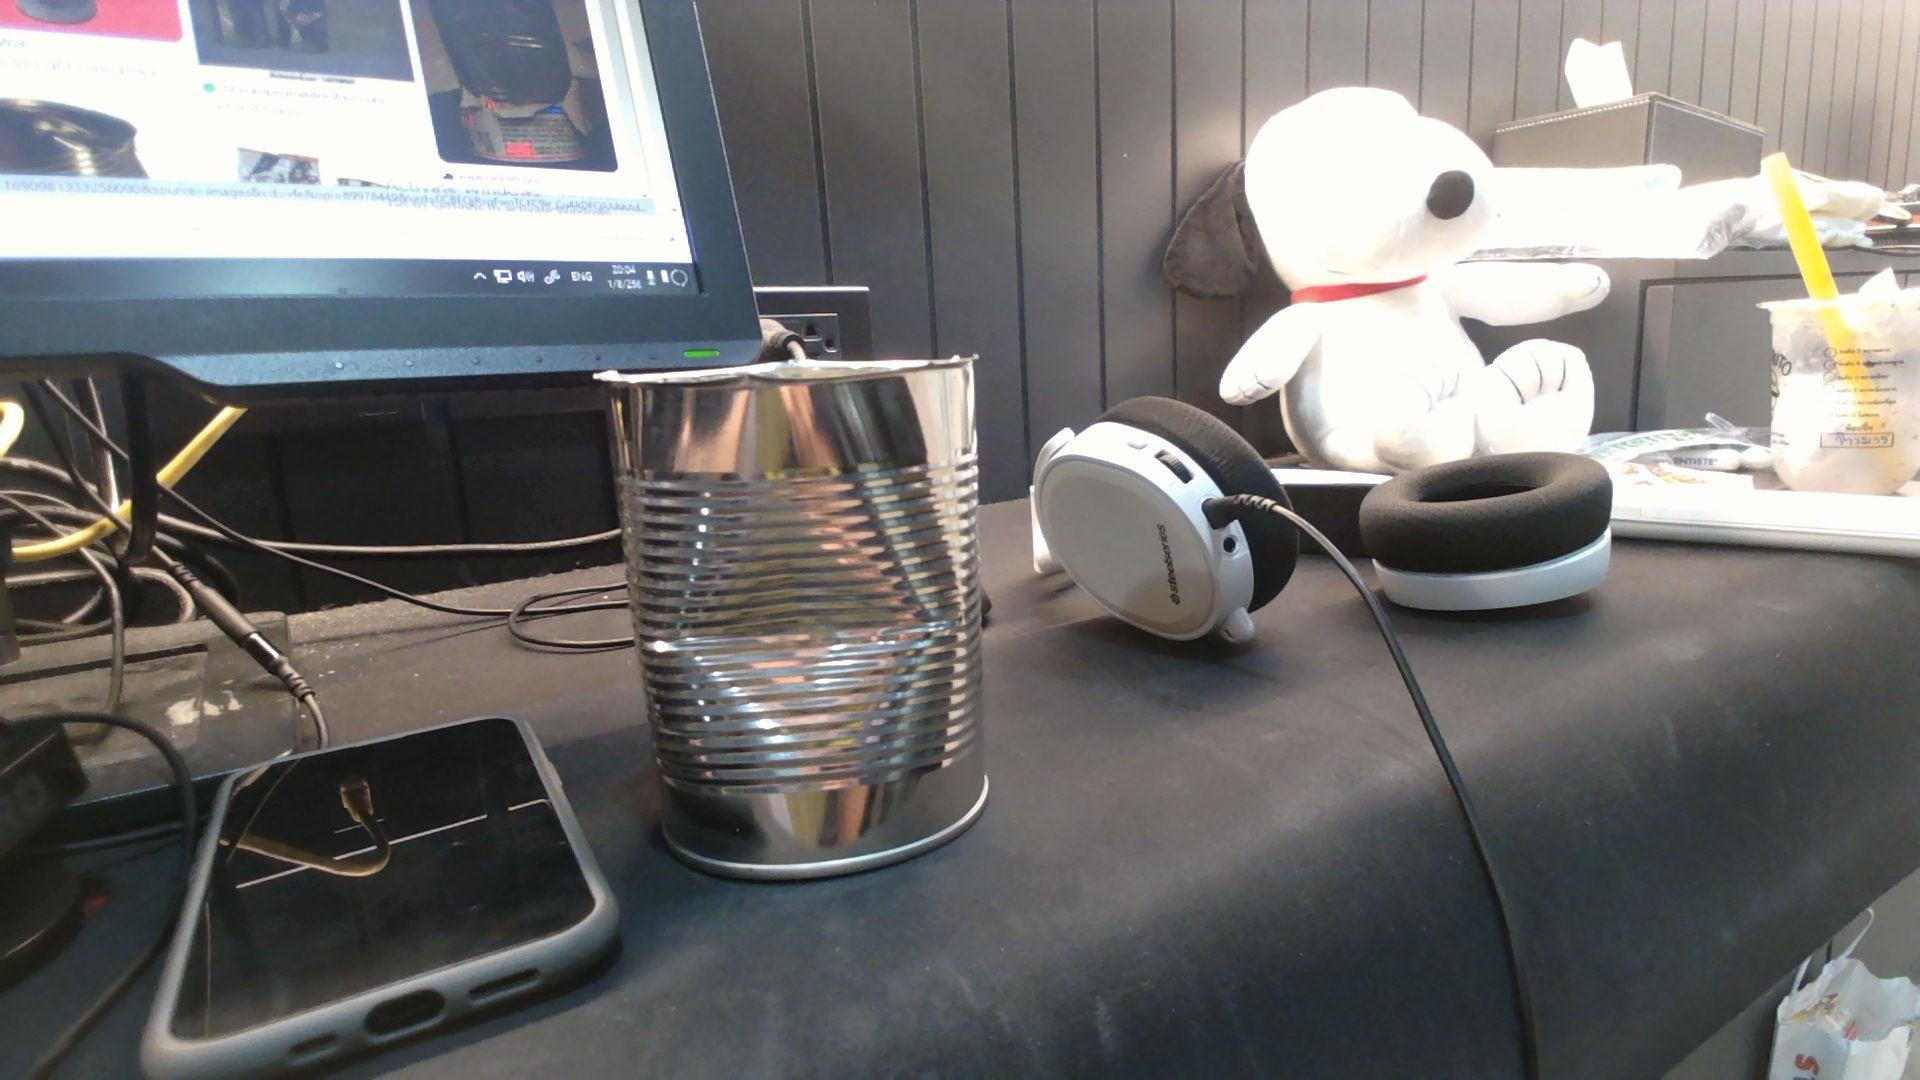metal: (601, 360, 986, 880)
paper: (1664, 870, 1919, 1079)
